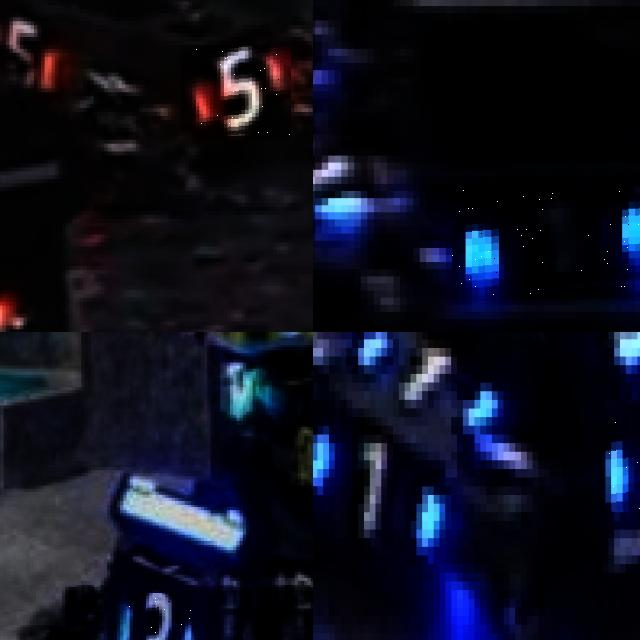B1: (445, 187, 640, 301), (313, 417, 445, 564), (352, 332, 497, 434), (313, 95, 370, 230), (602, 399, 640, 512)
B3: (110, 593, 191, 640)
R5: (181, 45, 291, 140)
